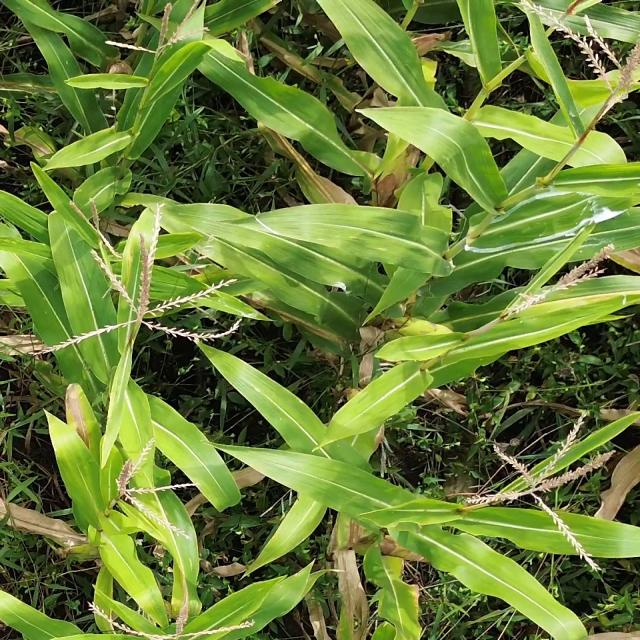gray-leaf-spot: (175, 556, 206, 621)
northern-leaf-blight: (265, 299, 338, 344), (19, 133, 73, 176), (67, 396, 105, 450)
